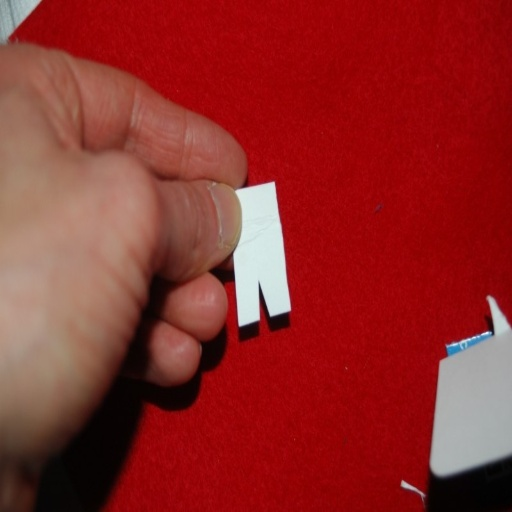hand: (0, 42, 248, 510)
